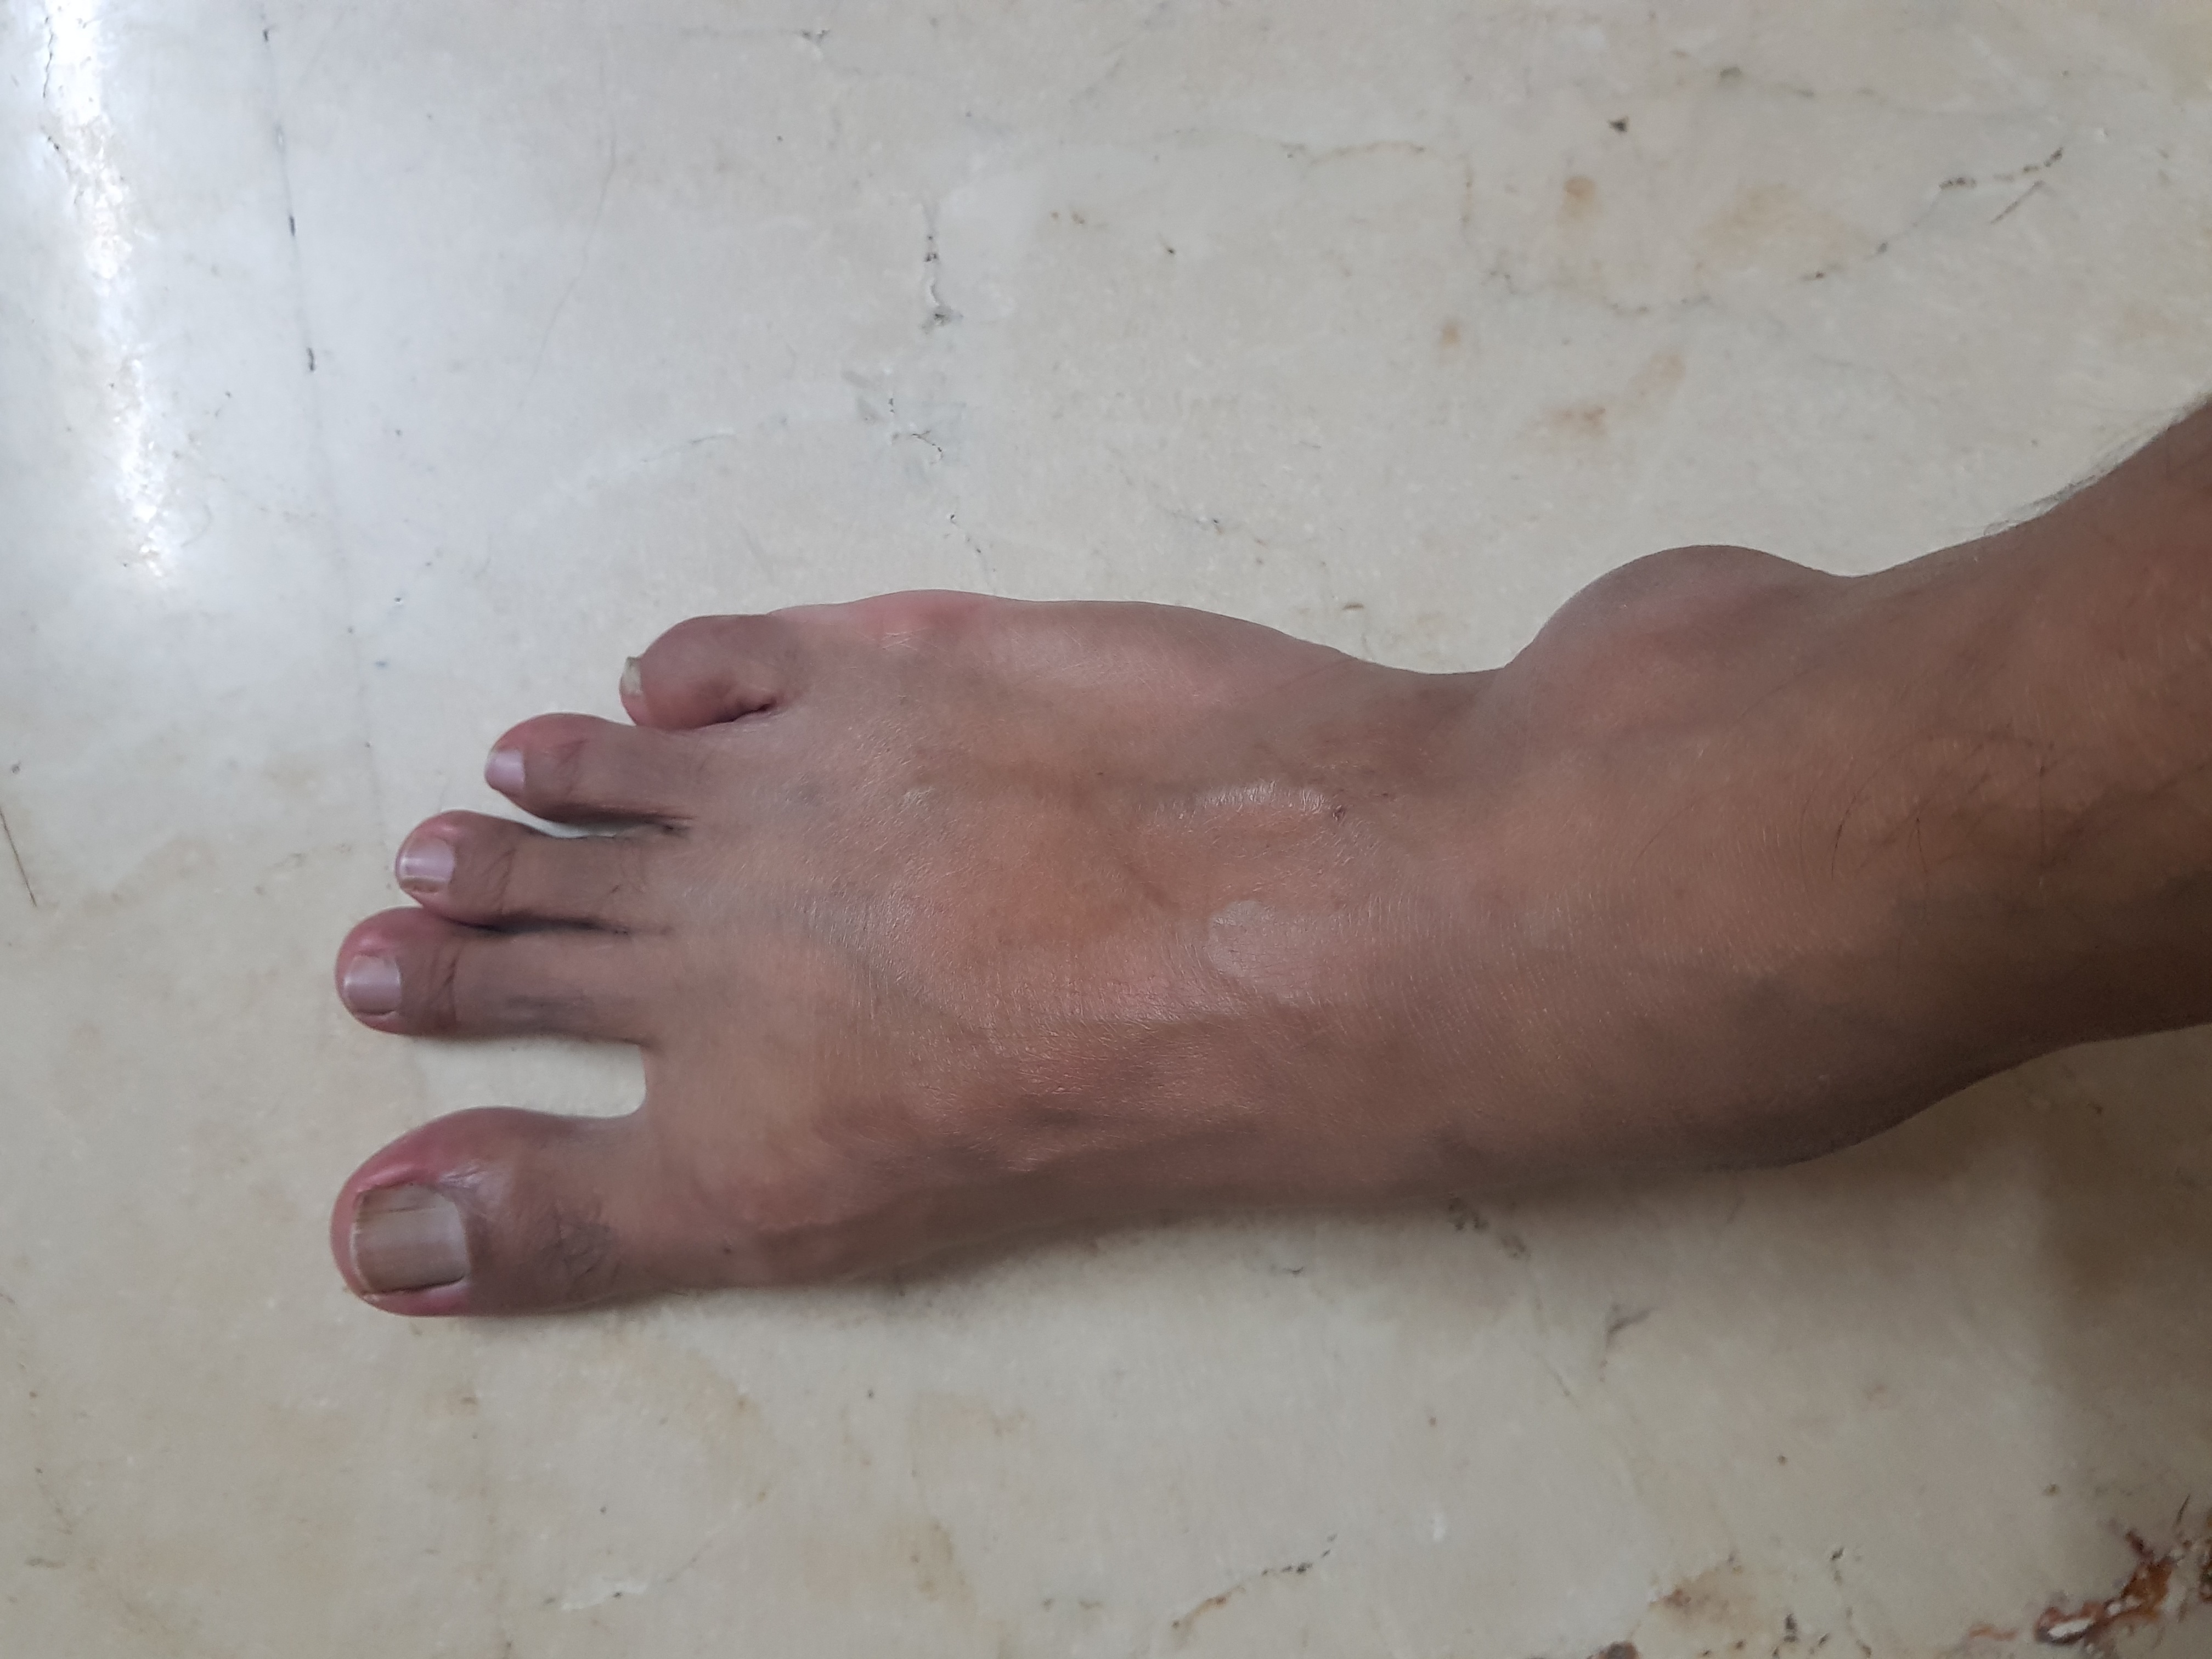feet: (176, 455, 2066, 1384)
